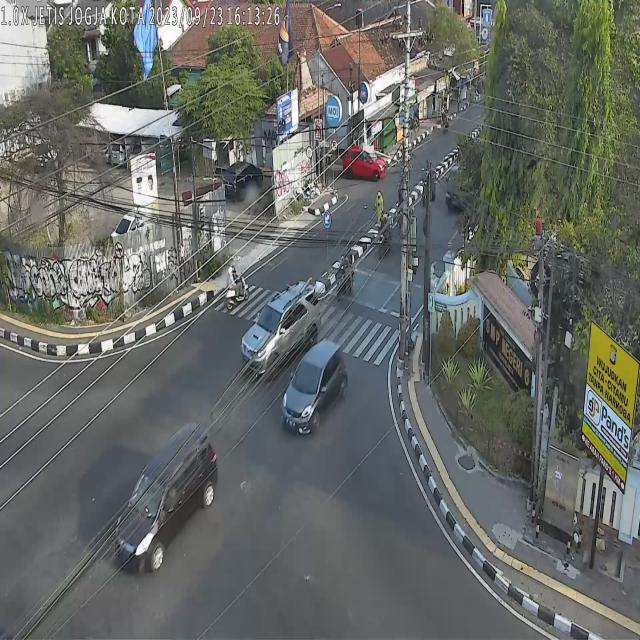car: (115, 421, 218, 574), (241, 280, 321, 381), (280, 339, 346, 436), (342, 144, 388, 182)
motorcycle: (334, 242, 356, 299), (224, 261, 250, 309), (378, 214, 392, 258)
